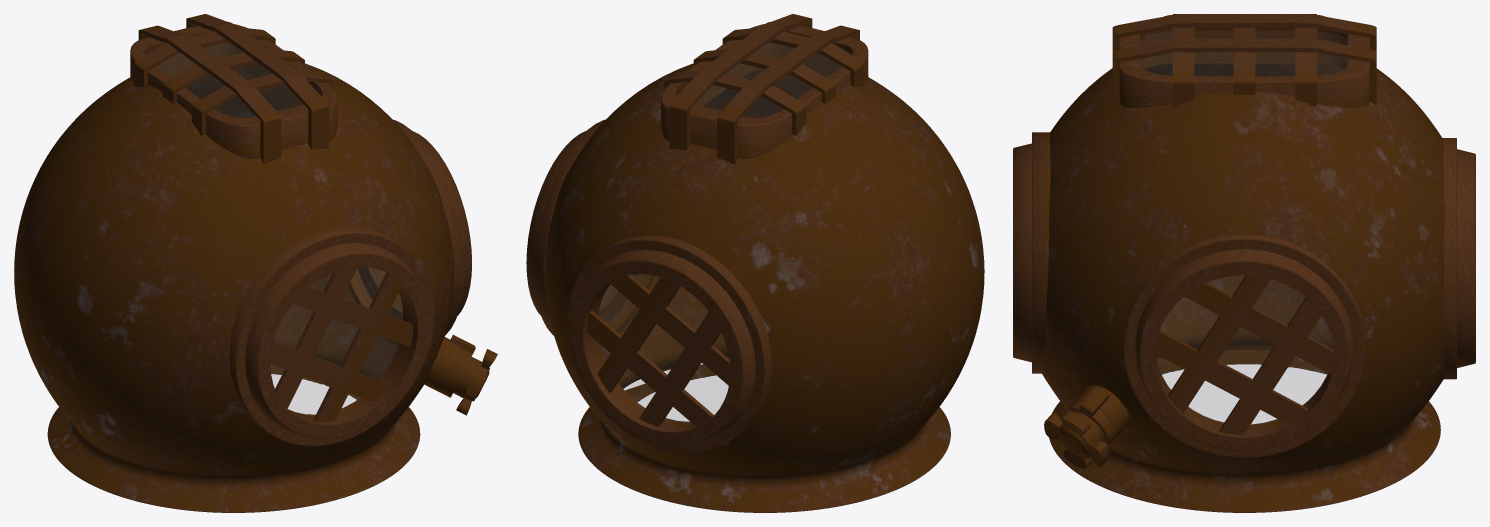
Rendered from ScubaRedo.fbx.
3 views of the same model, side by side, from view 1: azimuth 30°, elevation 25°; view 2: azimuth 150°, elevation 25°; view 3: azimuth 270°, elevation 25° (orthographic). The views are drawn at different scales.
Parts seen in each view (by area): view 1: Sphere, Cylinder.003, Bars.002, OuterRim, Glass.002, Cylinder.001, Joint5, Joint6, Valve, GlaaTop, Joint3, Joint2 (+1 smaller); view 2: Sphere, Cylinder.002, Bars.001, OuterRim, Glass, Cylinder.001, Joint6, Joint5, GlaaTop, Joint2, Joint3, Joint1; view 3: Sphere, Cylinder.001, Bars, OuterRim, Glass.001, Cylinder.003, Cylinder.002, Joint6, Valve, Joint5, GlaaTop, Joint3 (+2 smaller).
Part boxes in pixels (x1,y1,x2,y2): Sphere: [14, 63, 453, 512]; Cylinder.003: [229, 226, 434, 446]; Bars.002: [270, 267, 413, 421]; OuterRim: [130, 24, 337, 159]; Glass.002: [271, 267, 402, 413]; Cylinder.001: [348, 119, 471, 345]; Joint5: [138, 25, 281, 164]; Joint6: [186, 14, 329, 149]; Valve: [424, 334, 497, 415]; GlaaTop: [157, 43, 302, 117]; Joint3: [192, 70, 333, 135]; Joint2: [133, 27, 275, 87]; Sphere: [544, 63, 984, 512]; Cylinder.002: [566, 235, 772, 453]; Bars.001: [587, 275, 730, 426]; OuterRim: [661, 24, 868, 158]; Glass: [598, 274, 728, 421]; Cylinder.001: [526, 119, 654, 345]; Joint6: [669, 14, 812, 150]; Joint5: [717, 25, 859, 164]; GlaaTop: [696, 43, 841, 117]; Joint2: [664, 70, 806, 135]; Joint3: [722, 27, 864, 87]; Joint1: [693, 48, 835, 103]; Sphere: [1042, 63, 1444, 512]; Cylinder.001: [1123, 234, 1365, 457]; Bars: [1155, 275, 1333, 435]; OuterRim: [1119, 27, 1369, 107]; Glass.001: [1156, 276, 1332, 424]; Cylinder.003: [1013, 132, 1050, 373]; Cylinder.002: [1442, 138, 1475, 379]; Joint6: [1112, 38, 1376, 105]; Valve: [1044, 385, 1128, 469]; Joint5: [1112, 14, 1376, 51]; GlaaTop: [1141, 39, 1347, 75]; Joint3: [1172, 14, 1194, 106].
Bounding box in the file's own units: 437 × 418 × 439.
